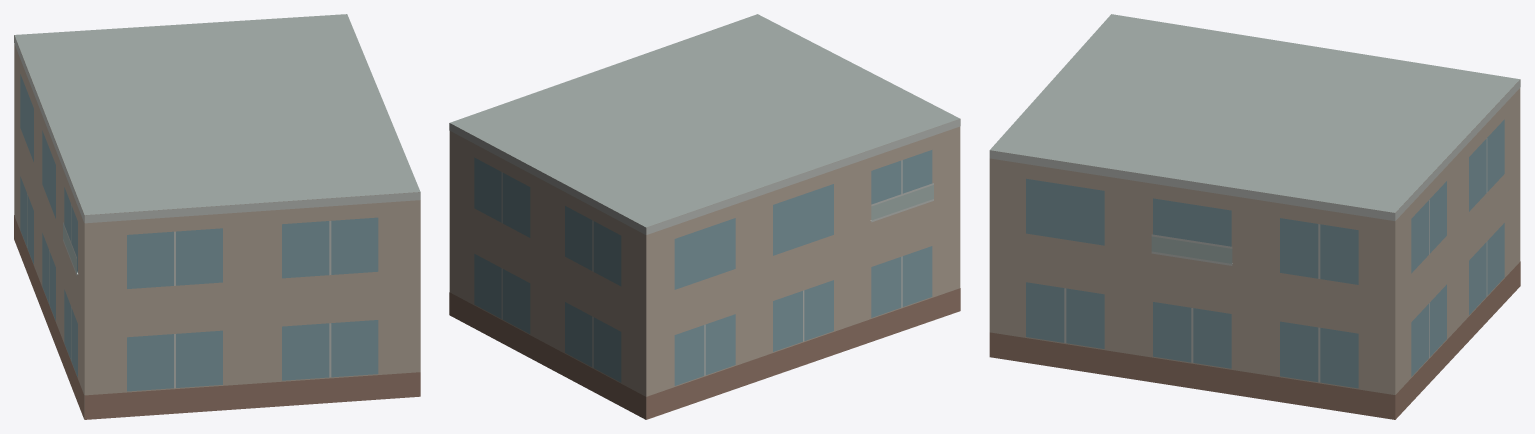
The model's file is survey-upis-32953199.glb.
3 views of the same model, side by side, from view 1: azimuth 30°, elevation 25°; view 2: azimuth 150°, elevation 25°; view 3: azimuth 270°, elevation 25° (orthographic). The views are drawn at different scales.
Parts seen in each view (by area): view 1: survey-upis-32953199.tmp; view 2: survey-upis-32953199.tmp; view 3: survey-upis-32953199.tmp.
Boxes of the visible parts, x1,y1,x2,y2 form: survey-upis-32953199.tmp: [14, 14, 420, 419]; survey-upis-32953199.tmp: [449, 14, 960, 419]; survey-upis-32953199.tmp: [989, 14, 1520, 419].
Size of the model in its own units: 12.59 by 6.1 by 14.19.
